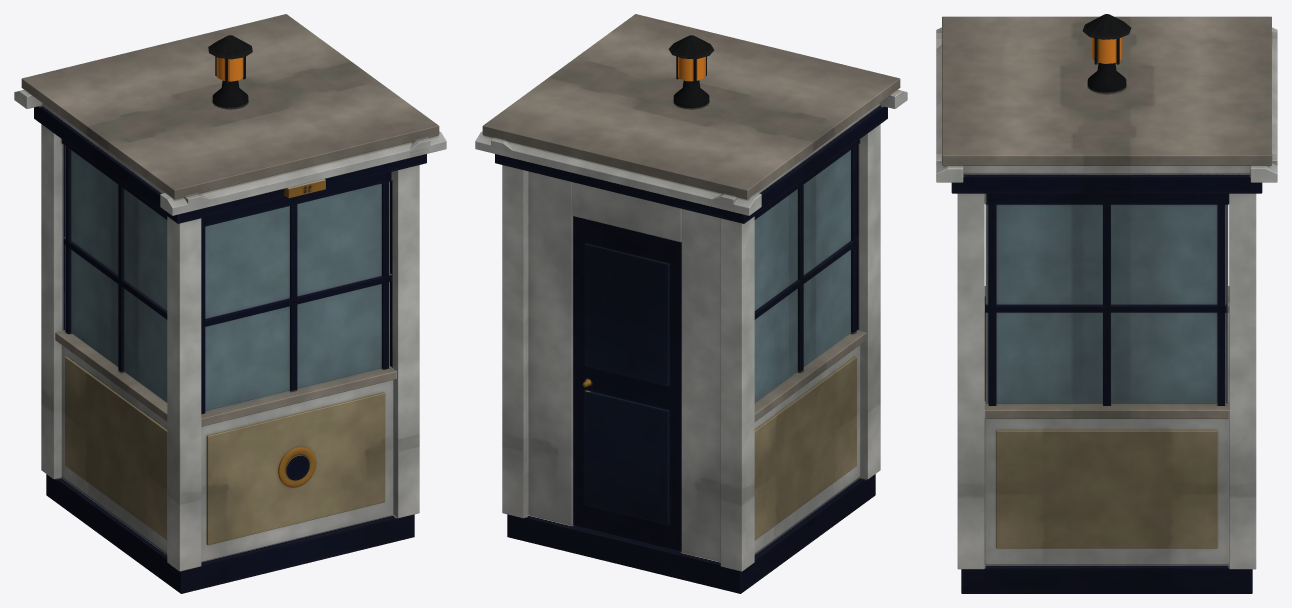
Rendered from guard_booth.glb.
3 views of the same model, side by side, from view 1: azimuth 30°, elevation 25°; view 2: azimuth 150°, elevation 25°; view 3: azimuth 270°, elevation 25° (orthographic). The views are drawn at different scales.
Visible parts, largest first — view 1: guard_booth; view 2: guard_booth; view 3: guard_booth.
Boxes of the visible parts, <box> form: guard_booth: <box>14,14,446,593</box>; guard_booth: <box>475,14,907,593</box>; guard_booth: <box>936,14,1277,593</box>.
Size of the model in its own units: 1.76 by 2.94 by 1.76.
1 material, 1 textured.
